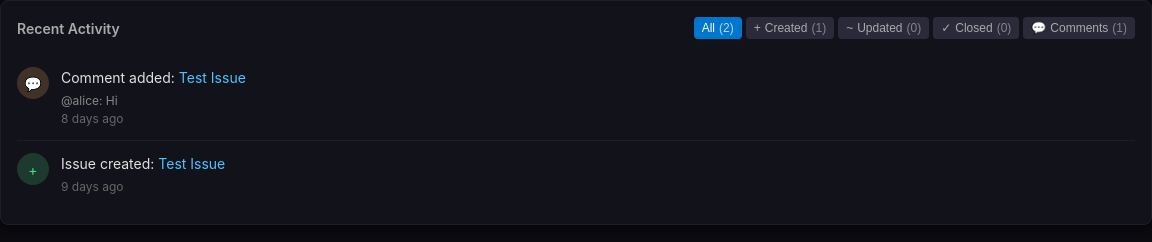
ActivityFeed › filtering › filters to show only comment activities
Click the button "💬Comments(1)" at (1079, 28), box [1023,17,1135,39]
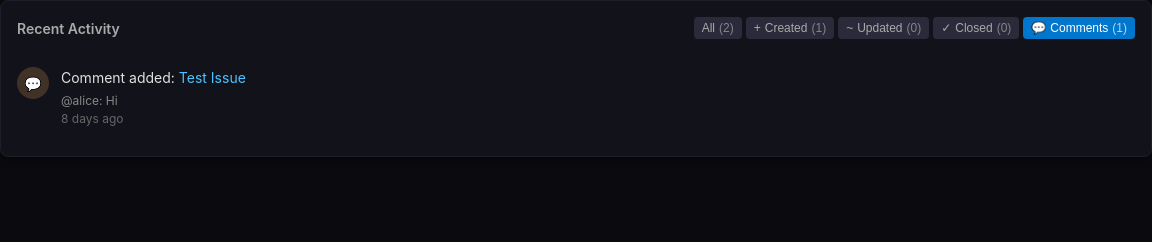
Check: the text "Comment added:" is shown, box [61,69,246,86]
Check: the text "Issue created:" is gone
